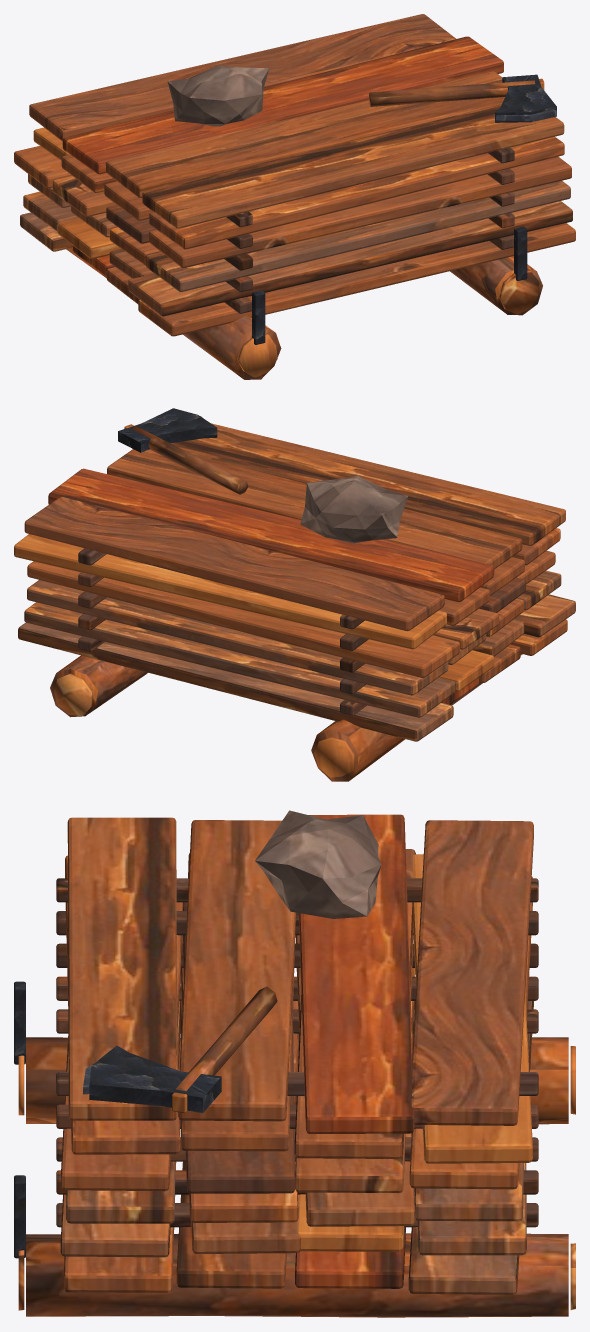
The model's file is mp_lagging_stack.glb.
3 views of the same model, one above another, from view 1: azimuth 30°, elevation 25°; view 2: azimuth 150°, elevation 25°; view 3: azimuth 270°, elevation 25° (orthographic). The views are drawn at different scales.
Parts seen in each view (by area): view 1: model; view 2: model; view 3: model.
Part boxes in pixels (<box>): model: <box>14,14,575,379</box>; model: <box>14,408,575,781</box>; model: <box>14,810,575,1317</box>.
Size of the model in its own units: 1.22 by 0.6222 by 0.932.
18 materials, 18 textured.
